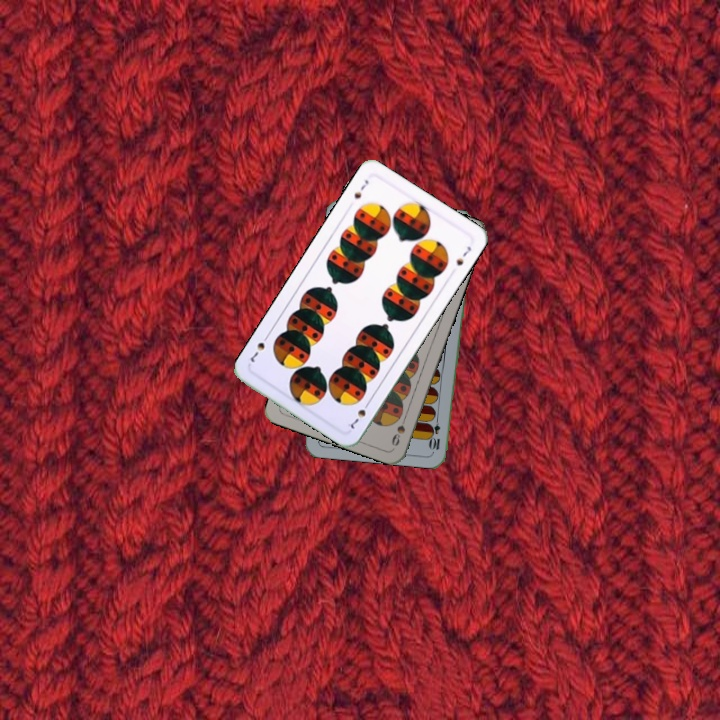E10: (428, 412, 443, 452)
S7: (344, 397, 373, 432), (350, 176, 371, 201)
S9: (387, 409, 410, 449)
